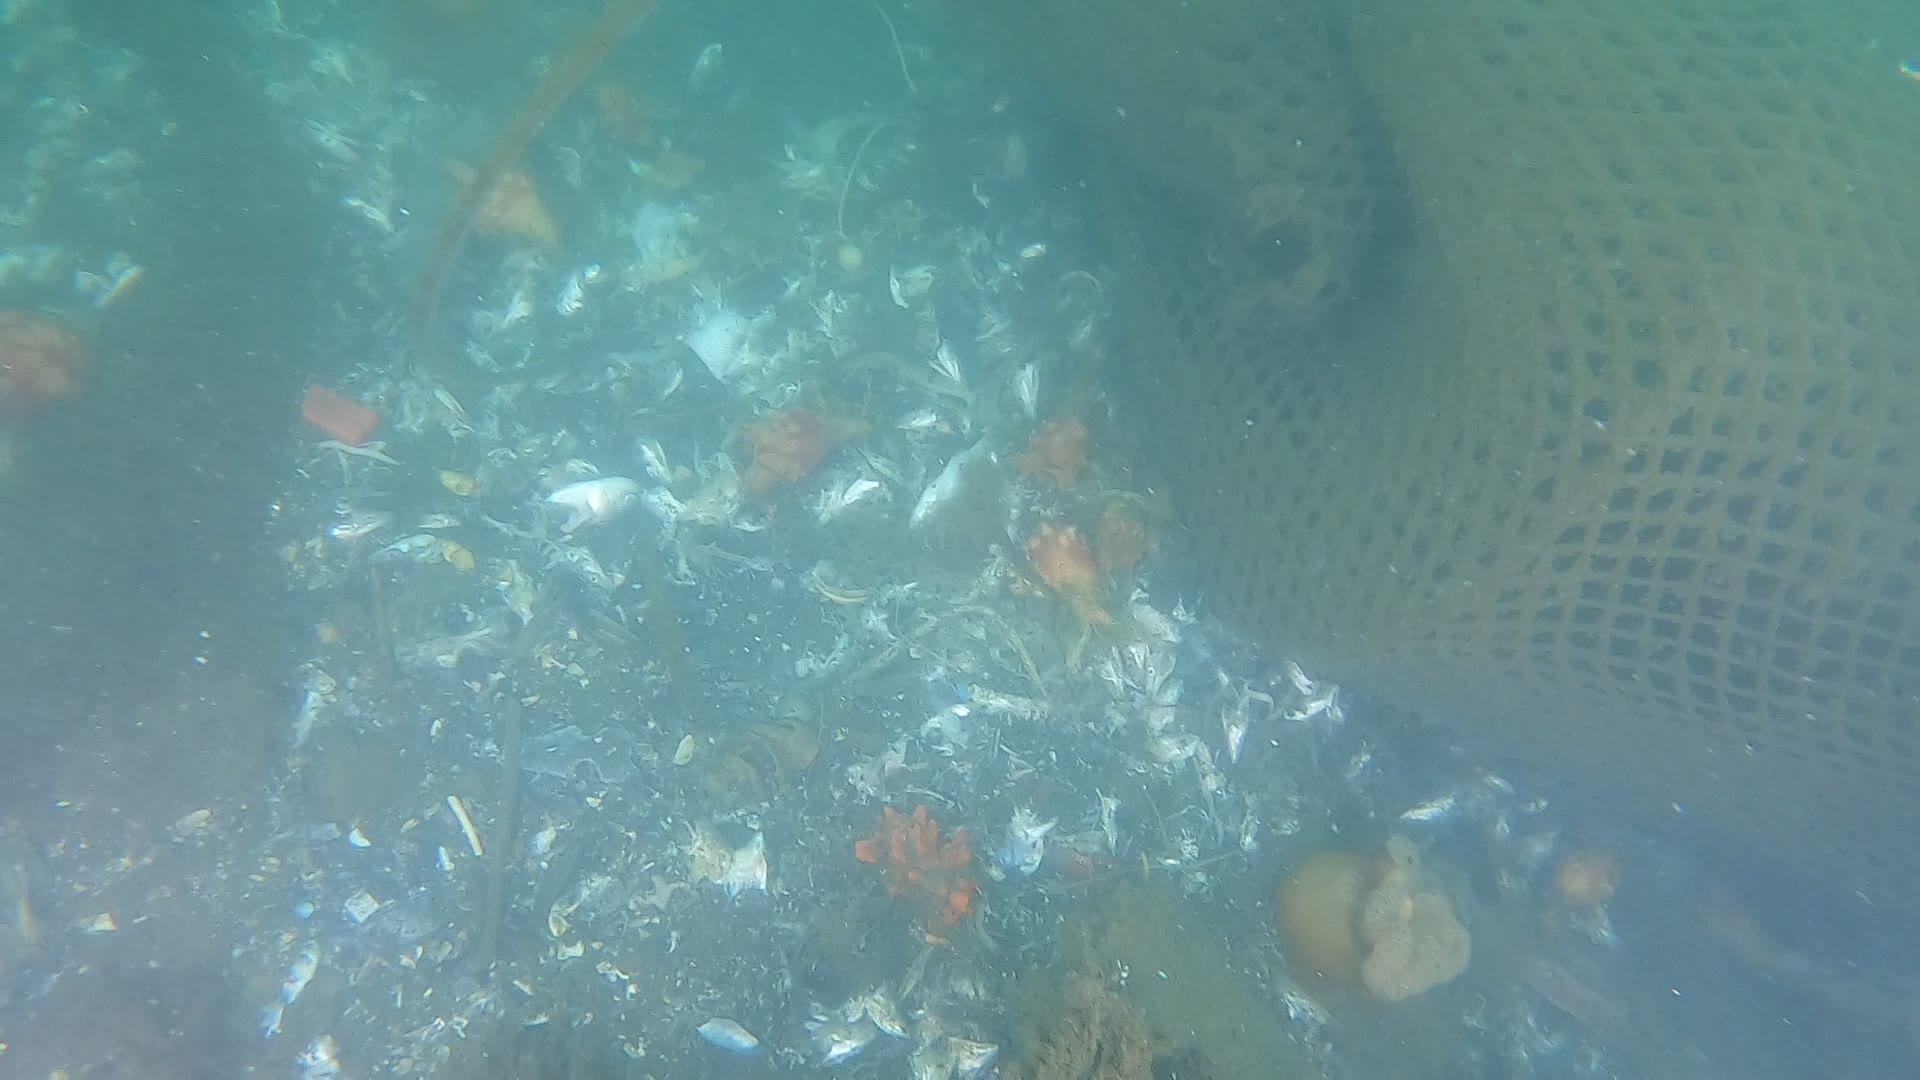fish net: (1091, 3, 1920, 800)
